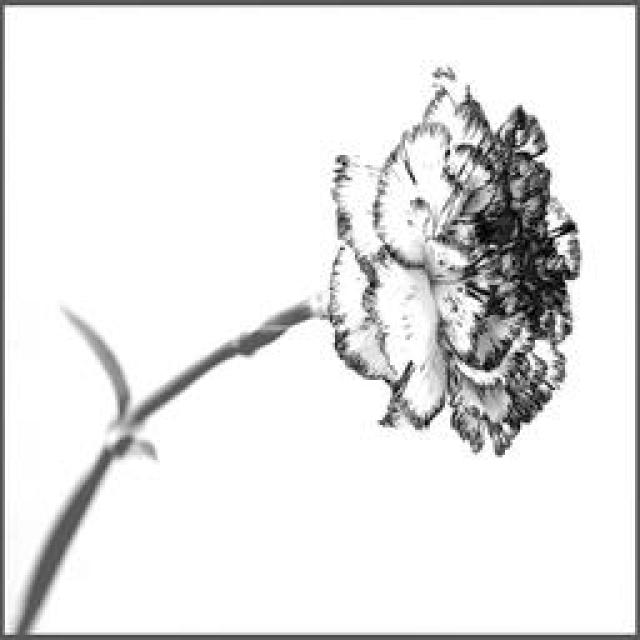carnation: (306, 44, 600, 499)
